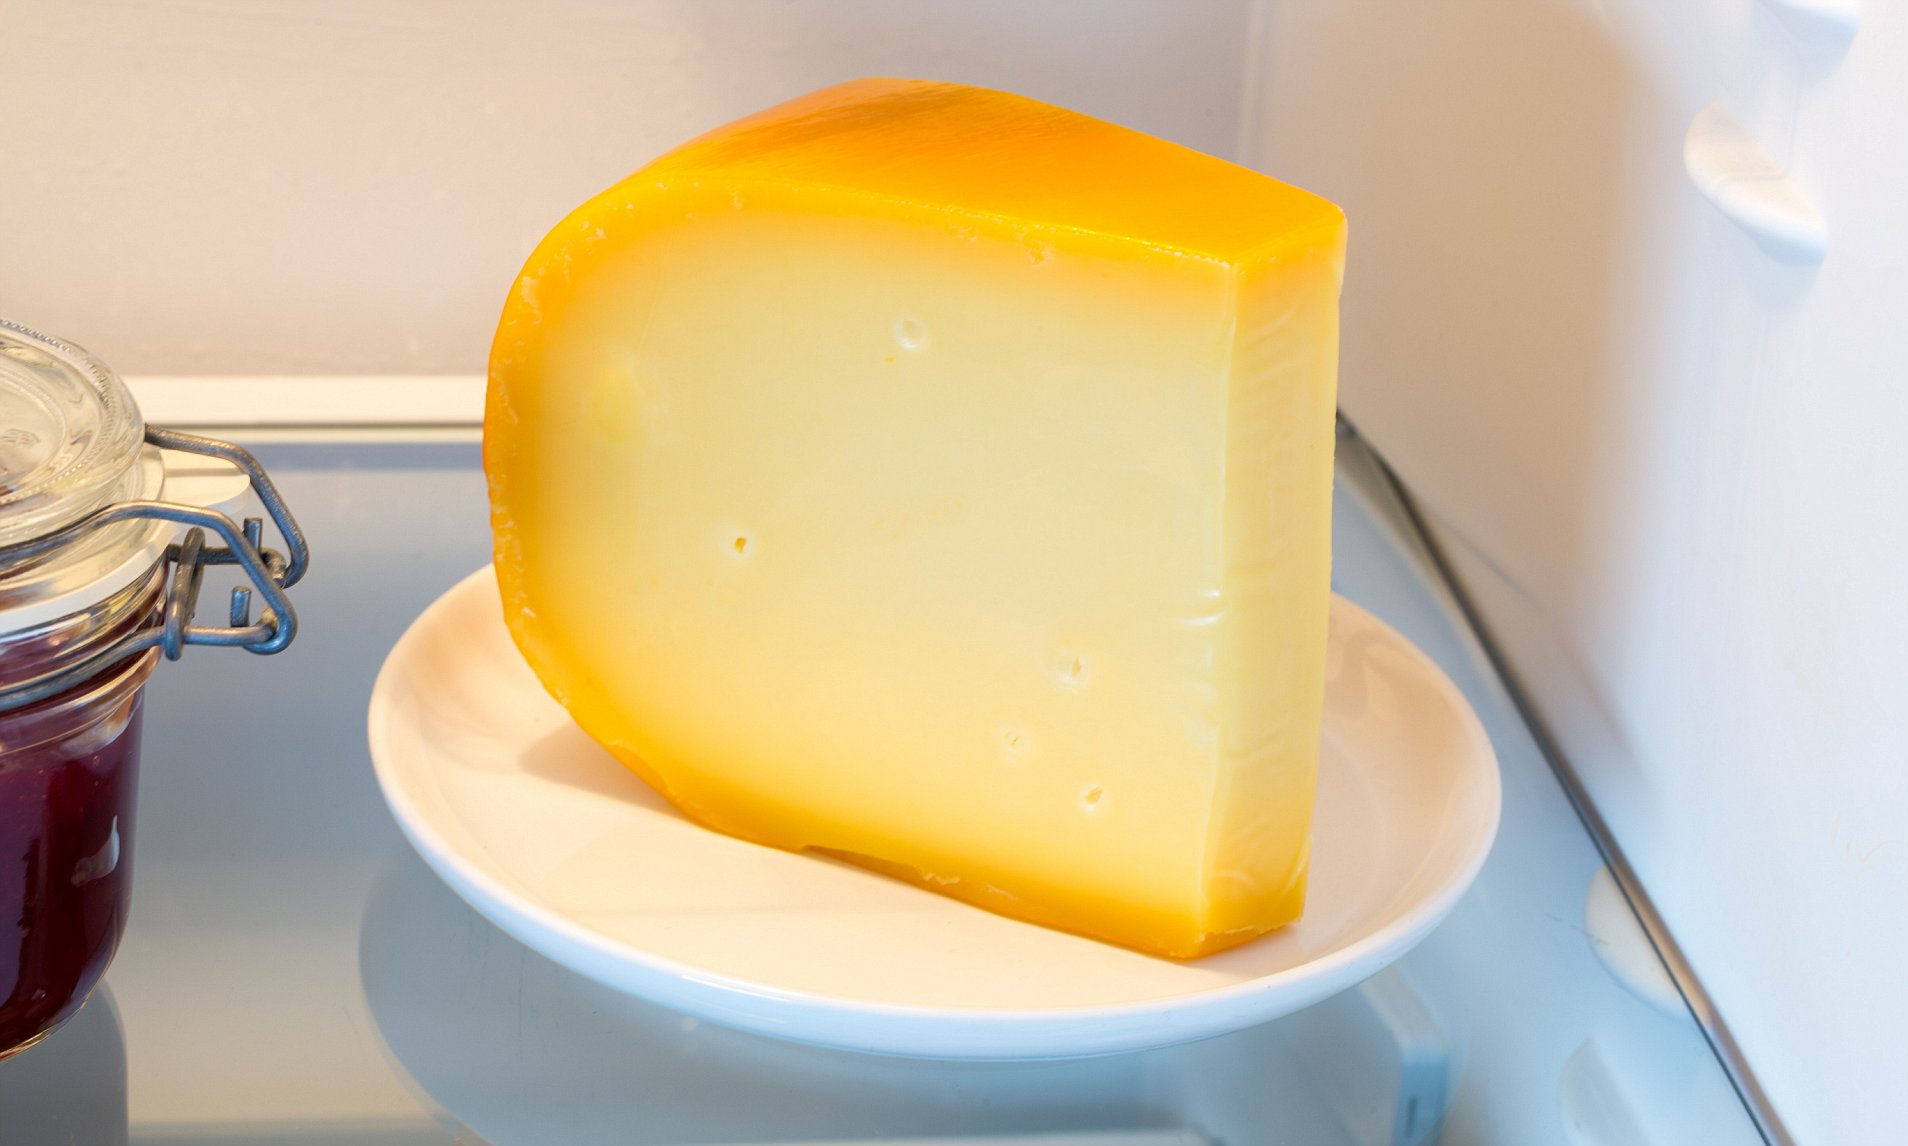cheese: (470, 80, 1411, 976)
